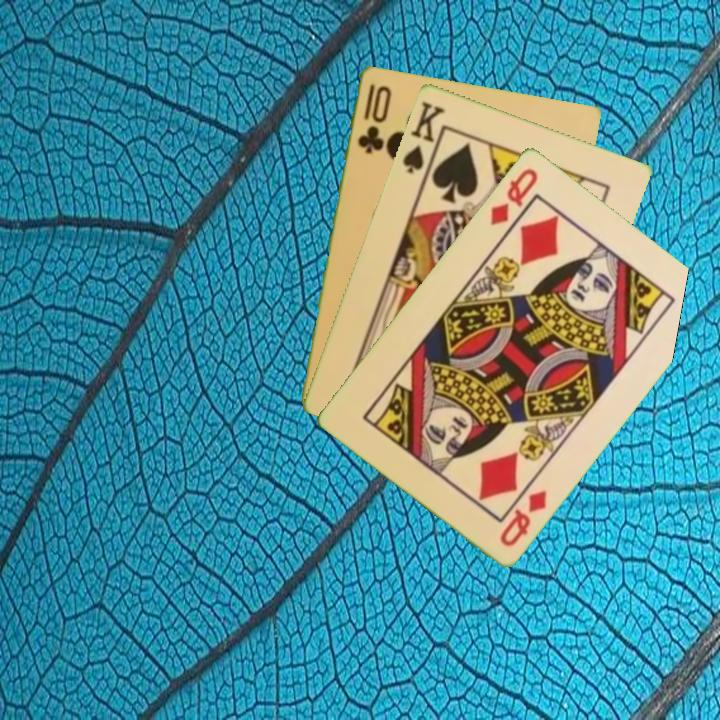10c: (354, 79, 393, 156)
Ks: (398, 97, 448, 181)
Qd: (486, 164, 541, 228), (496, 486, 550, 549)
